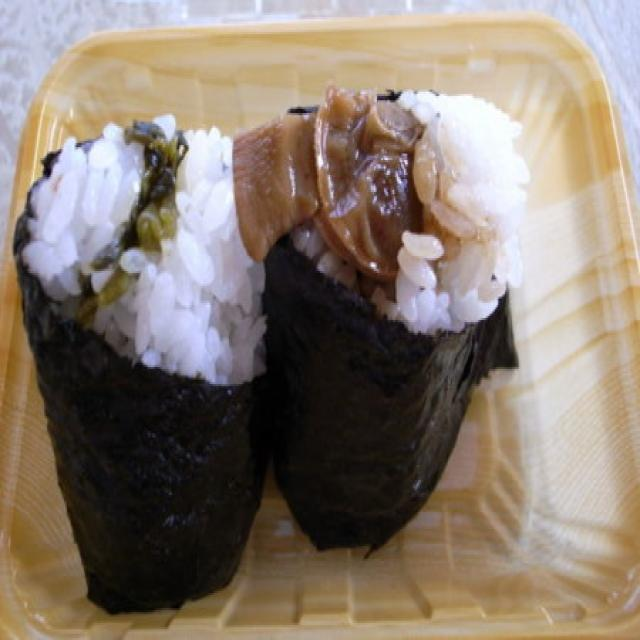米饭主食: (0, 30, 640, 640)
